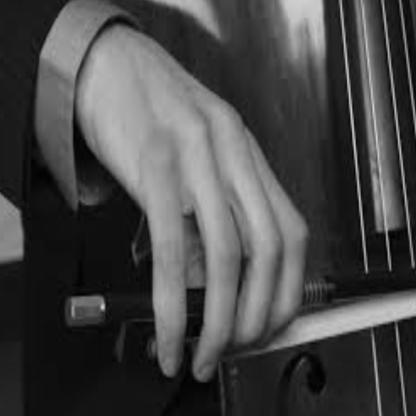good: (116, 75, 310, 389)
